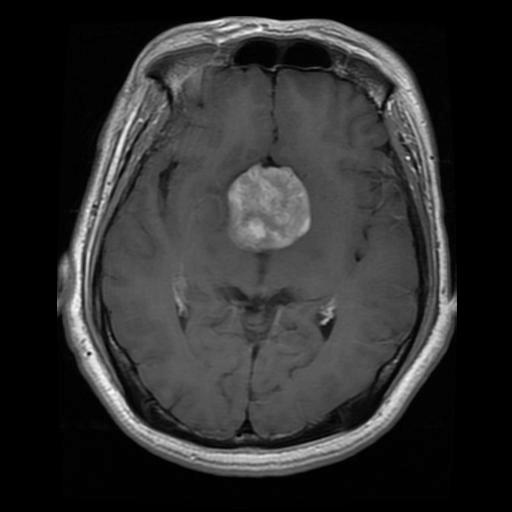Tumour-Pituitary: (221, 157, 322, 262)
